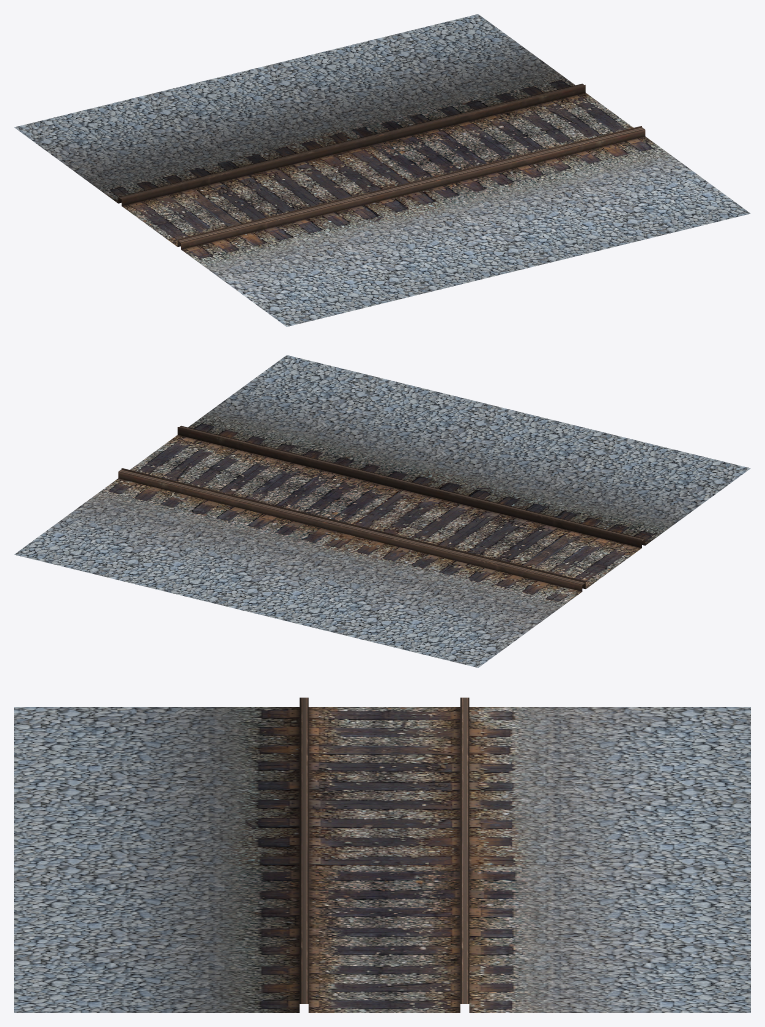
File: railway_1.fbx
3 renders of one model, top to bottom at view 1: azimuth 30°, elevation 25°; view 2: azimuth 150°, elevation 25°; view 3: azimuth 270°, elevation 25°, orthographic. The views are drawn at different scales.
Visible parts, largest first — view 1: Plane.001; view 2: Plane.001; view 3: Plane.001.
Part boxes in pixels (x1,y1,x2,y2): Plane.001: (14,14,750,326); Plane.001: (14,355,750,667); Plane.001: (14,697,750,1012).
Bounding box in the file's own units: 375 × 6.2 × 382.
Materials: 1 (1 with a texture image).
